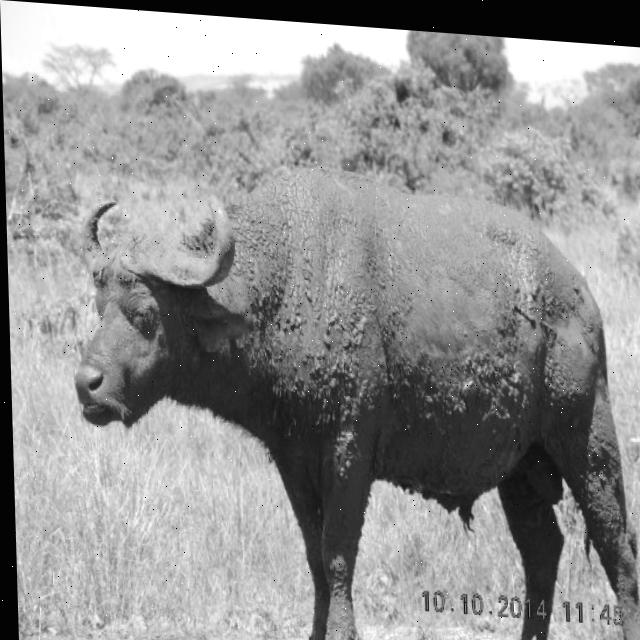Buffalo: (66, 149, 640, 640)
